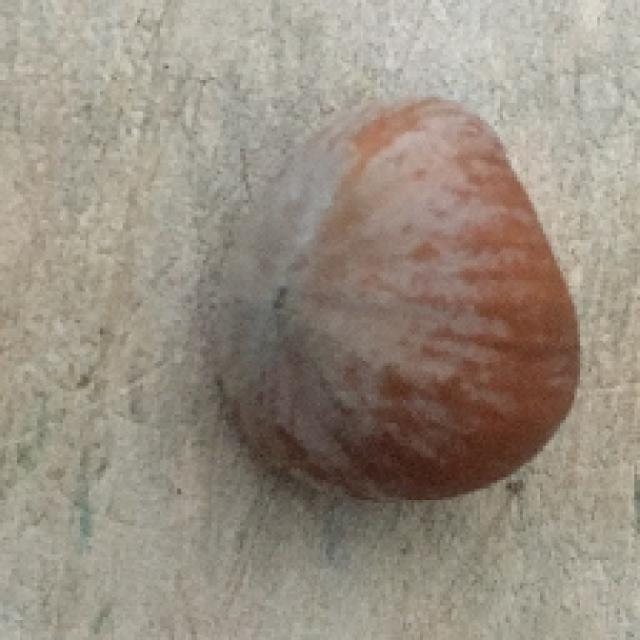QualityHazelnut: (214, 91, 586, 503)
